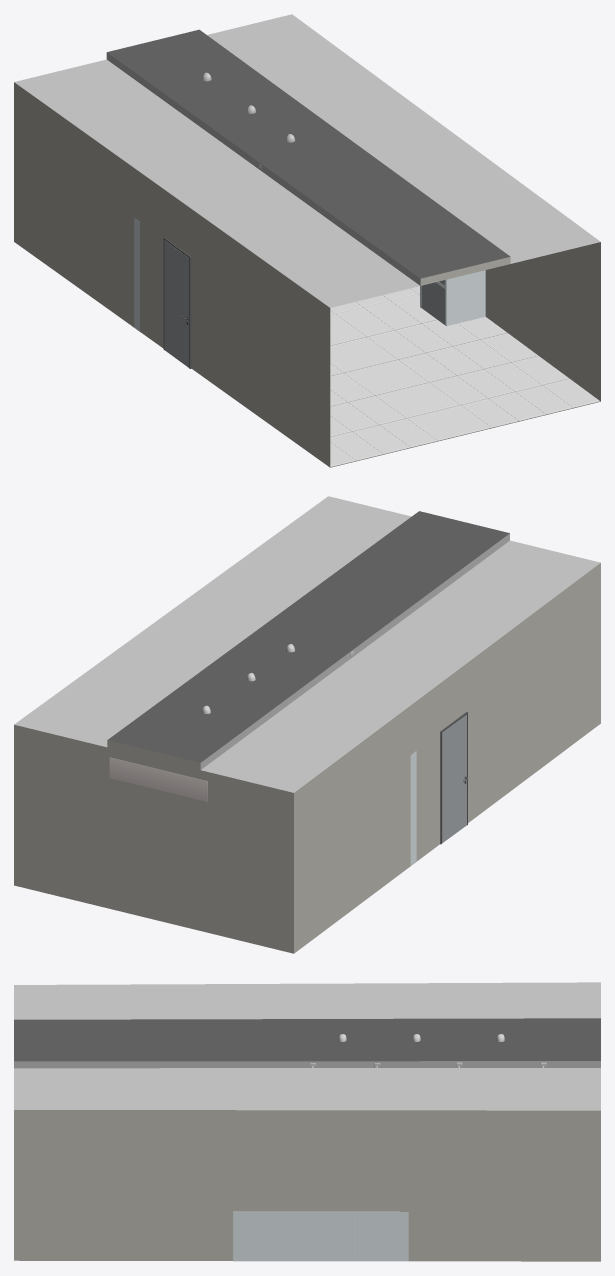
File: office cabin interior.fbx
The picture shows the model from 3 angles, top to bottom: view 1: azimuth 30°, elevation 25°; view 2: azimuth 150°, elevation 25°; view 3: azimuth 270°, elevation 25°; orthographic projection. The views are drawn at different scales.
Visible parts, largest first — view 1: Cube, Door, Cube.016, Cube.017, Cube.023, Frame; view 2: Cube, Door, archmodels74_043_001, Cube.023; view 3: Cube, Cube.016, Cube.012.
Part boxes in pixels (x1,y1,x2,y2): Cube: [14, 14, 600, 467]; Door: [164, 240, 189, 367]; Cube.016: [420, 270, 485, 326]; Cube.017: [421, 282, 445, 324]; Cube.023: [134, 218, 139, 331]; Frame: [163, 237, 191, 368]; Cube: [14, 496, 600, 953]; Door: [442, 715, 468, 843]; archmodels74_043_001: [109, 757, 207, 802]; Cube.023: [410, 751, 416, 866]; Cube: [14, 982, 600, 1261]; Cube.016: [233, 1211, 354, 1261]; Cube.012: [354, 1211, 408, 1261].
Size of the model in its own units: 413 by 245 by 794.
